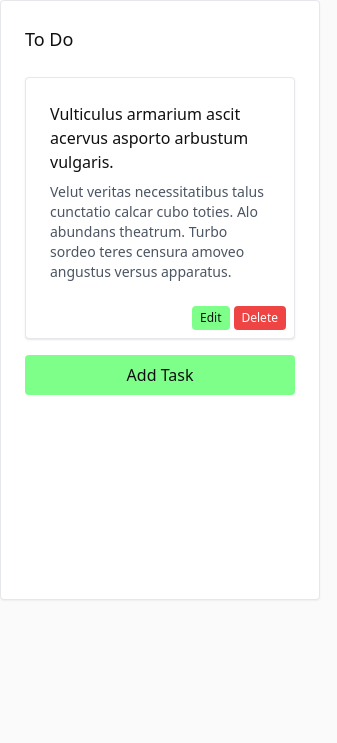
Test: actions › shows task form when add task is clicked
This screenshot has width=337, height=743.
Click the button "Add Task" at [160, 375], box [25,355,295,395]
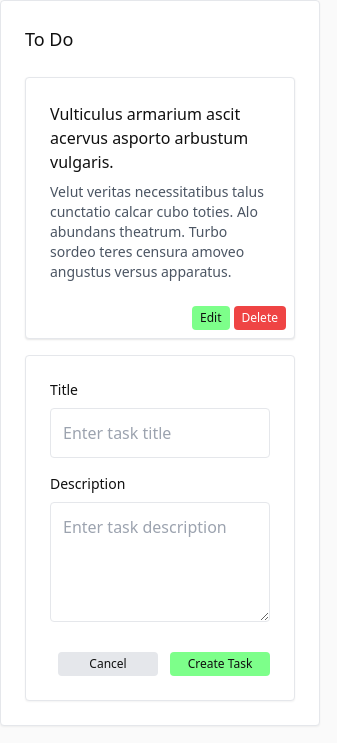
Check: the form with test id "task-form" is shown, box [25,355,295,701]
